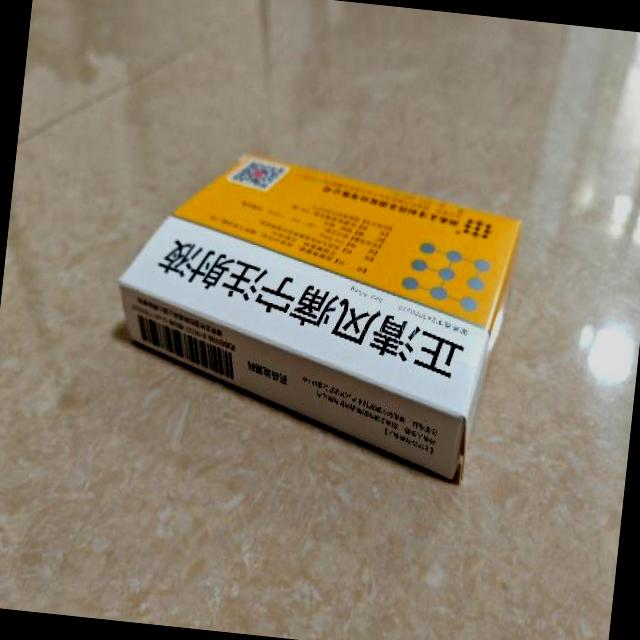box: (100, 142, 526, 486)
